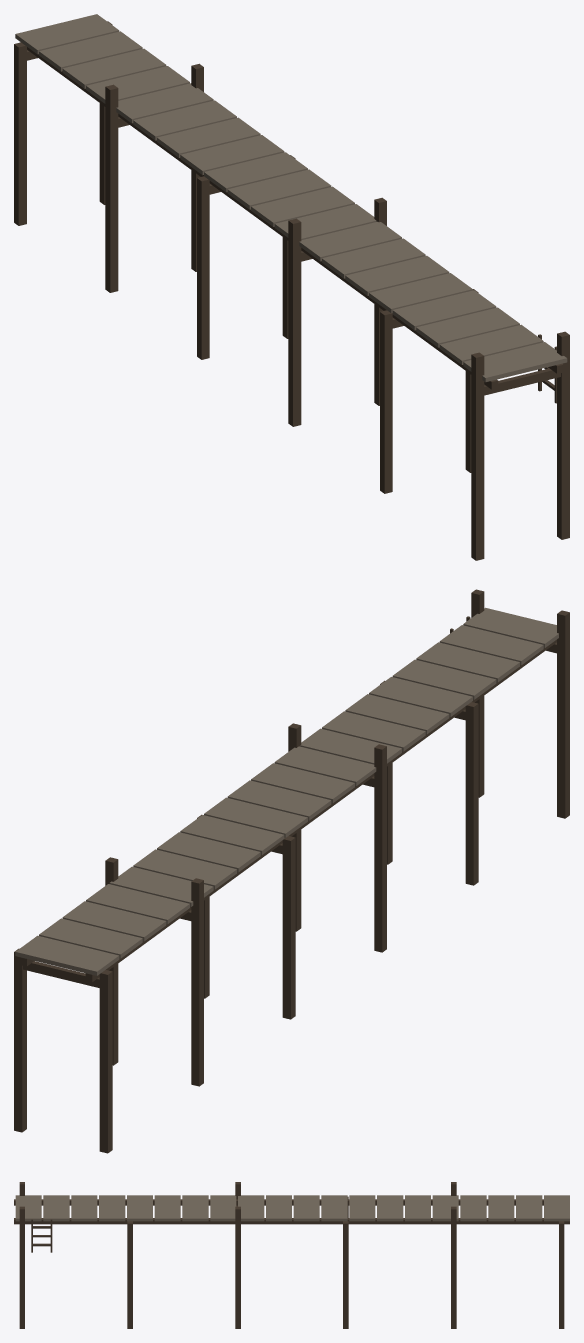
The model's file is pier.glb.
3 renders of one model, top to bottom at view 1: azimuth 30°, elevation 25°; view 2: azimuth 150°, elevation 25°; view 3: azimuth 270°, elevation 25°, orthographic. The views are drawn at different scales.
Parts seen in each view (by area): view 1: pier; view 2: pier; view 3: pier.
Part boxes in pixels (x1,y1,x2,y2): pier: (14, 14, 569, 560); pier: (14, 589, 569, 1153); pier: (14, 1182, 569, 1328).
Size of the model in its own units: 2.3 by 4.75 by 20.
